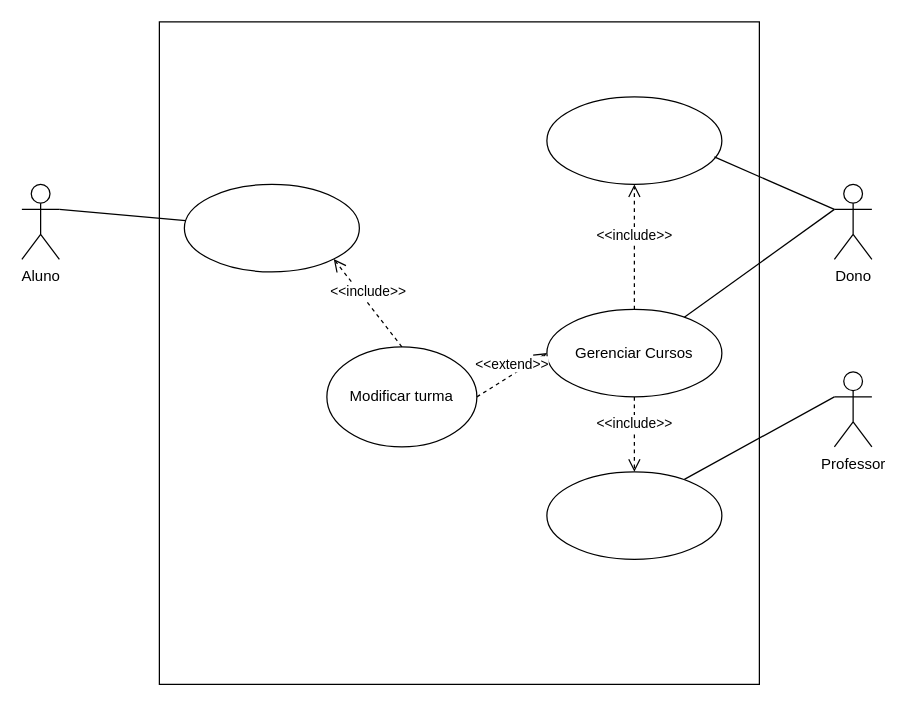
The diagram is 906 pixels wide and 706 high, and some of its shapes have lost their labels. The box of each missing label's shape, as (x1, y1, x2, y2) in pixels:
Adicionar curso: (546, 96, 722, 184)
Cadastro aluno: (183, 183, 359, 272)
Cadastro docente: (546, 471, 722, 559)
